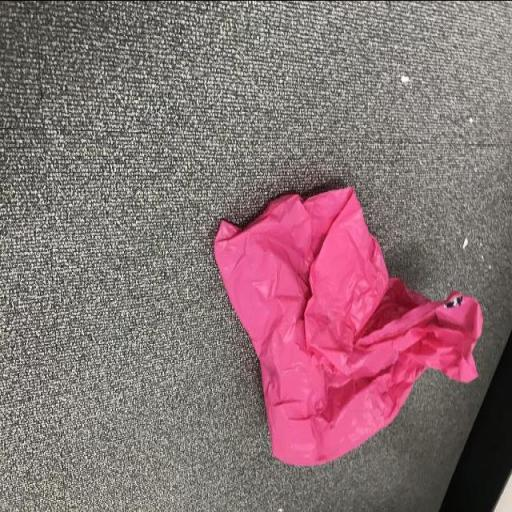plastic-bag: (212, 178, 484, 472)
